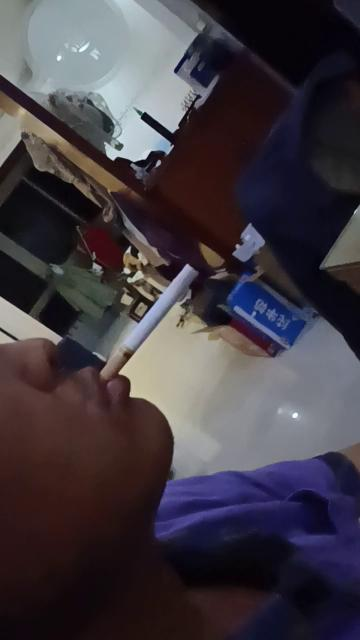Smoking: (98, 262, 200, 382)
